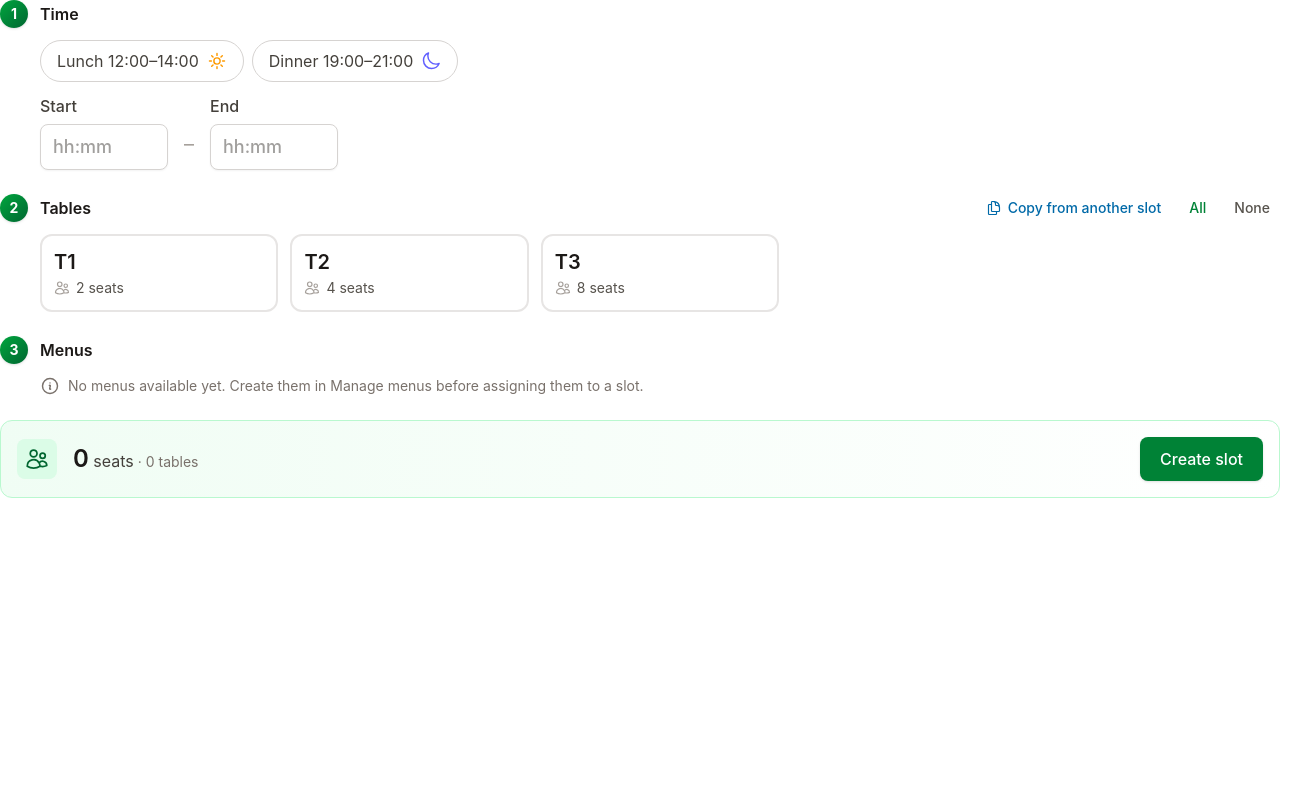
Test case: CreateSlotForm › creating a slot › sends tidy times and the selected tables, then resets the form
Type "930" into the field labelled "Start" at (104, 147), box x1=40 y1=124 x2=168 y2=170
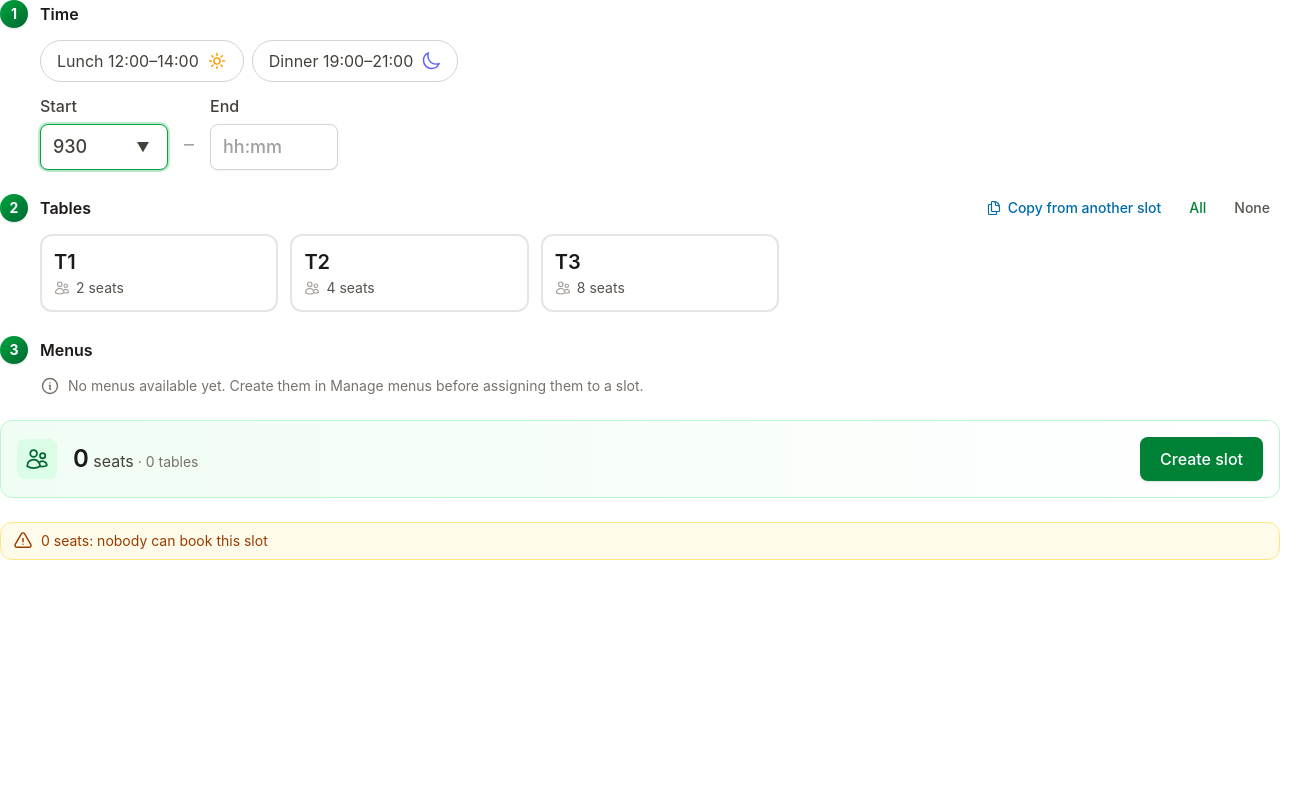
Type "11.30" into the field labelled "End" at (274, 147), box x1=210 y1=124 x2=338 y2=170
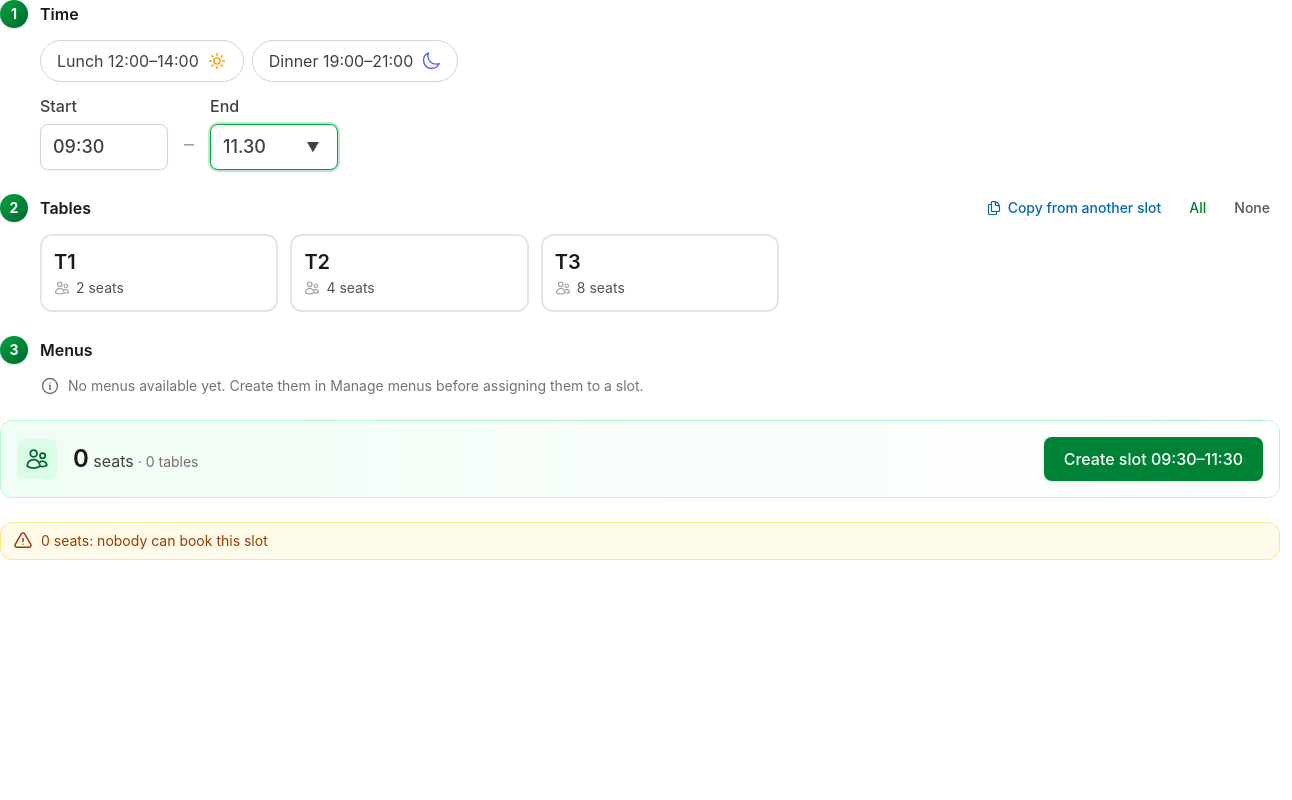
Click the button "T1 2 seats" at (159, 273), box x1=40 y1=234 x2=278 y2=312
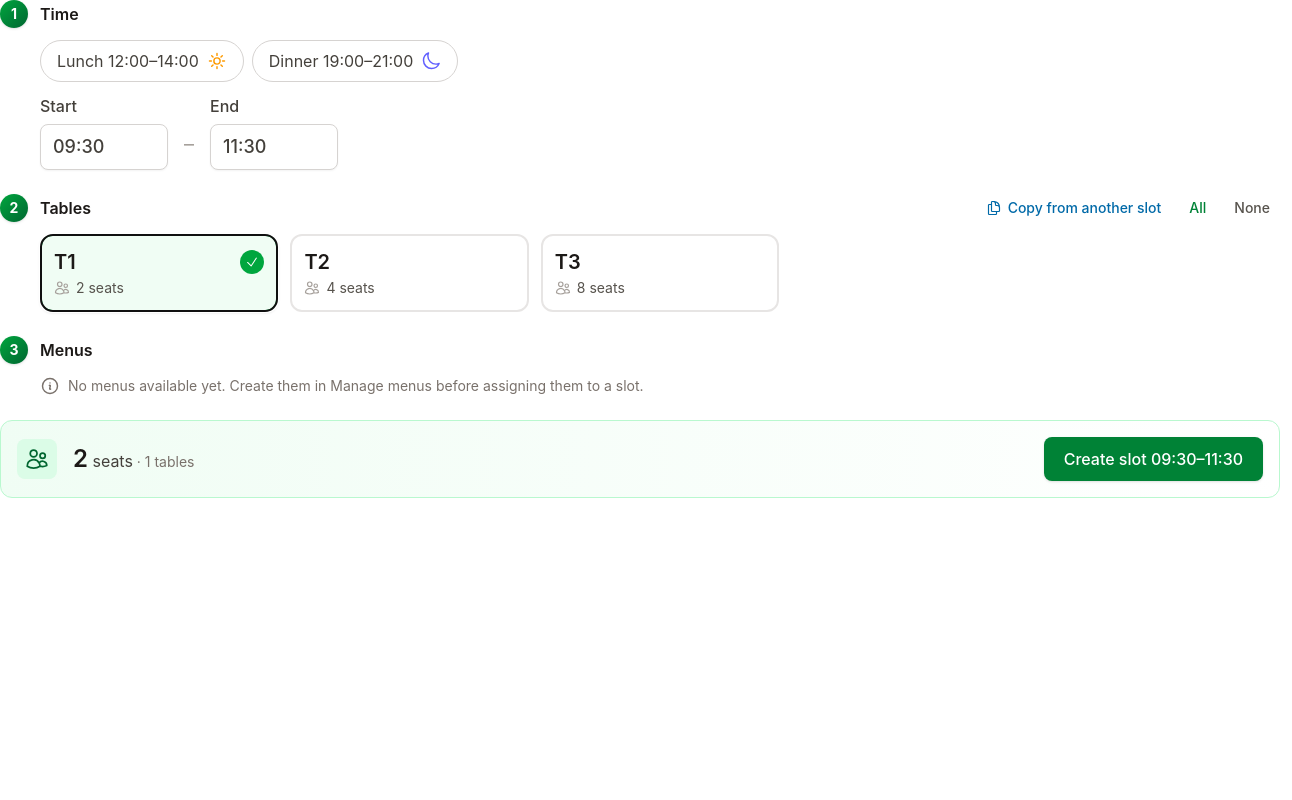
Click the button "Create slot 09:30–11:30" at (1153, 459), box x1=1044 y1=437 x2=1263 y2=481
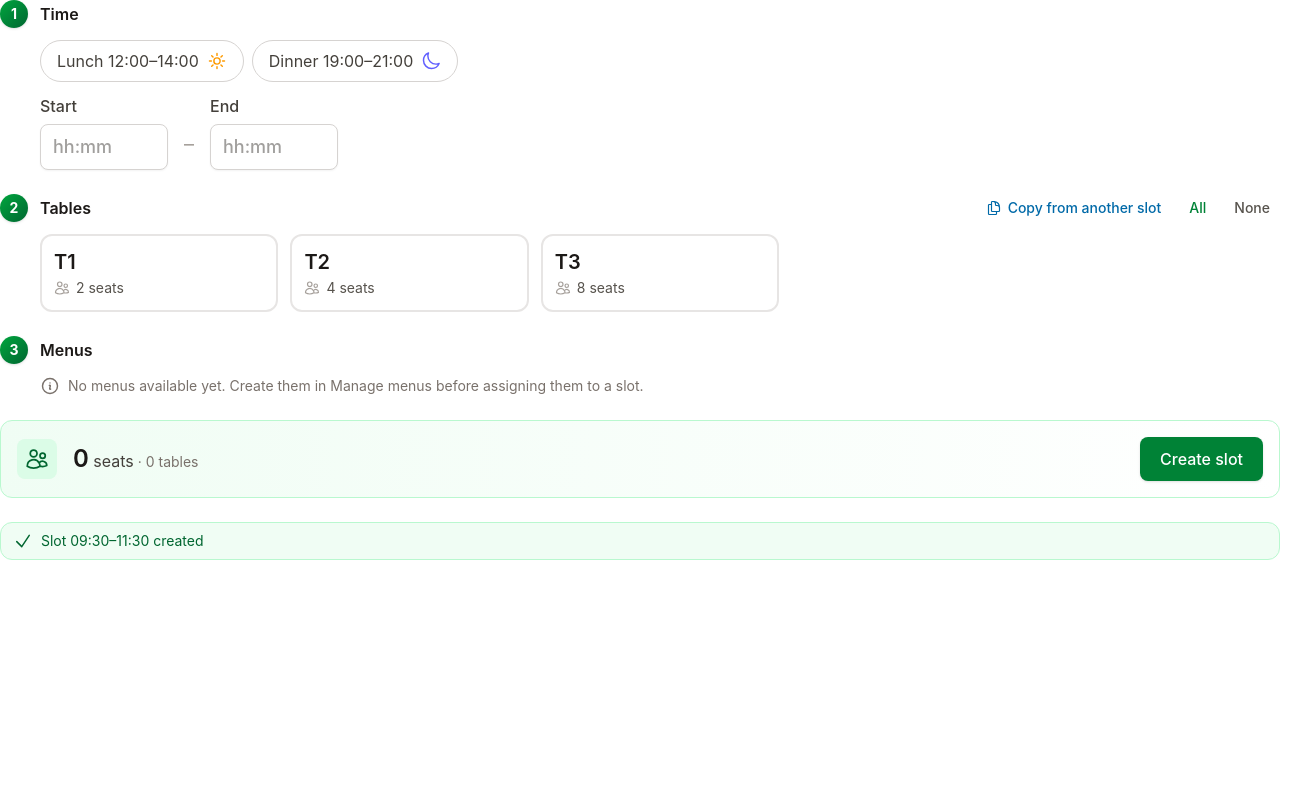
Expected: the text "Slot 09:30–11:30 created" is shown, x1=0 y1=522 x2=1280 y2=560
Expected: the field labelled "Start" is empty, x1=40 y1=124 x2=168 y2=170
